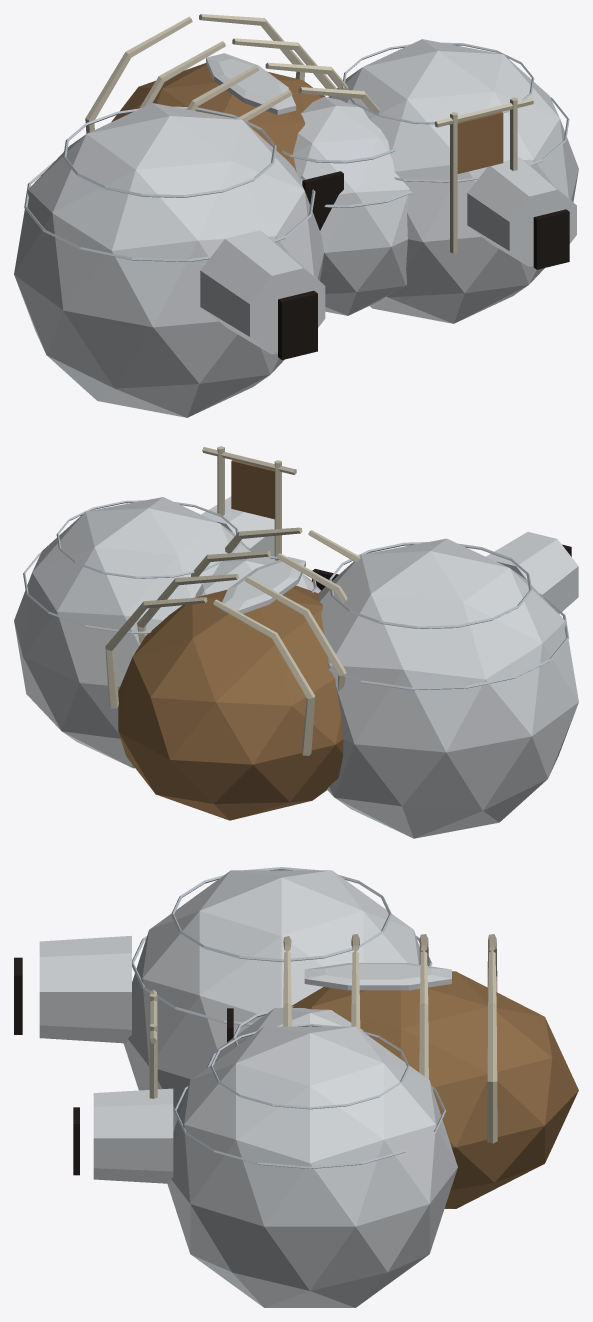
File: owl_compound.glb
3 views of the same model, one above another, from view 1: azimuth 30°, elevation 25°; view 2: azimuth 150°, elevation 25°; view 3: azimuth 270°, elevation 25° (orthographic). The views are drawn at different scales.
Visible parts, largest first — view 1: owl_compound; view 2: owl_compound; view 3: owl_compound.
Part boxes in pixels (left/top/right/bottom): owl_compound: left=14, top=14, right=578, bottom=417; owl_compound: left=14, top=446, right=578, bottom=838; owl_compound: left=14, top=867, right=578, bottom=1307.
Bounding box in the file's own units: 2.44 × 1.26 × 2.18.
